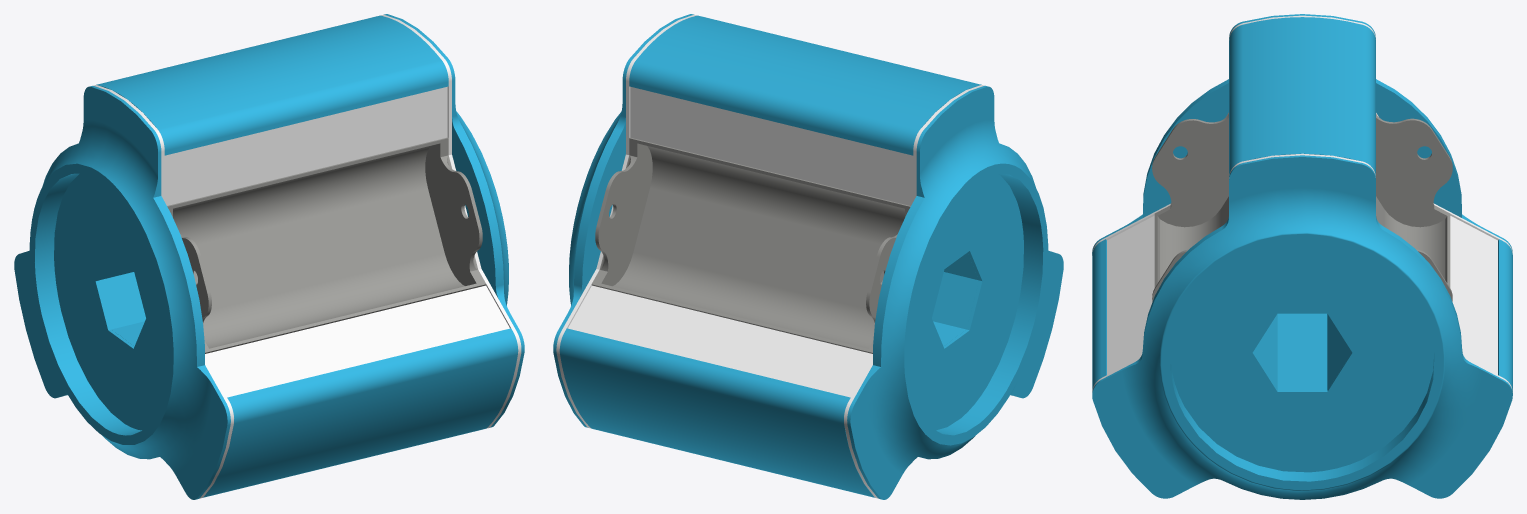
File: body_structure_simple_blue.dae
3 renders of one model, left to right at view 1: azimuth 30°, elevation 25°; view 2: azimuth 150°, elevation 25°; view 3: azimuth 270°, elevation 25°, orthographic.
Visible parts, largest first — view 1: Body1.010, Body1.008, Body1.005, Body1.004, Body4, Body5, Body1.003, Body3.001, Body1, Body1.002; view 2: Body1.010, Body1.009, Body1.006, Body1.004, Body6, Body1.001, Body1.003, Body3.001, Body1, Body1.002; view 3: Body1.003, Body1.004, Body1.009, Body1.008, Body5, Body1.001, Body3.001, Body1.010, Body1.005, Body1.006, Body1.002, Body1.
Part boxes in pixels (bbox=[...]): Body1.010: bbox=[14, 86, 230, 499]; Body1.008: bbox=[167, 137, 486, 353]; Body1.005: bbox=[203, 328, 518, 497]; Body1.004: bbox=[96, 15, 448, 155]; Body4: bbox=[164, 86, 447, 205]; Body5: bbox=[205, 285, 509, 397]; Body1.003: bbox=[384, 14, 524, 427]; Body3.001: bbox=[99, 252, 145, 345]; Body1: bbox=[380, 14, 521, 428]; Body1.002: bbox=[62, 85, 233, 498]; Body1.010: bbox=[847, 85, 1063, 499]; Body1.009: bbox=[591, 137, 910, 353]; Body1.006: bbox=[559, 328, 874, 497]; Body1.004: bbox=[629, 15, 981, 155]; Body6: bbox=[630, 86, 913, 205]; Body1.001: bbox=[568, 285, 872, 397]; Body1.003: bbox=[553, 14, 693, 427]; Body3.001: bbox=[932, 252, 978, 345]; Body1: bbox=[556, 14, 697, 428]; Body1.002: bbox=[844, 85, 1016, 498]; Body1.003: bbox=[1092, 155, 1512, 499]; Body1.004: bbox=[1229, 17, 1375, 176]; Body1.009: bbox=[1376, 114, 1452, 301]; Body1.008: bbox=[1152, 114, 1228, 301]; Body5: bbox=[1107, 215, 1154, 374]; Body1.001: bbox=[1450, 216, 1497, 374]; Body3.001: bbox=[1253, 313, 1351, 390]; Body1.010: bbox=[1092, 14, 1512, 252]; Body1.005: bbox=[1092, 239, 1106, 389]; Body1.006: bbox=[1498, 239, 1512, 390]; Body1.002: bbox=[1092, 15, 1512, 255]; Body1: bbox=[1092, 153, 1512, 392].
Bounding box in the file's own units: 0.2032 × 0.2238 × 0.2006.
